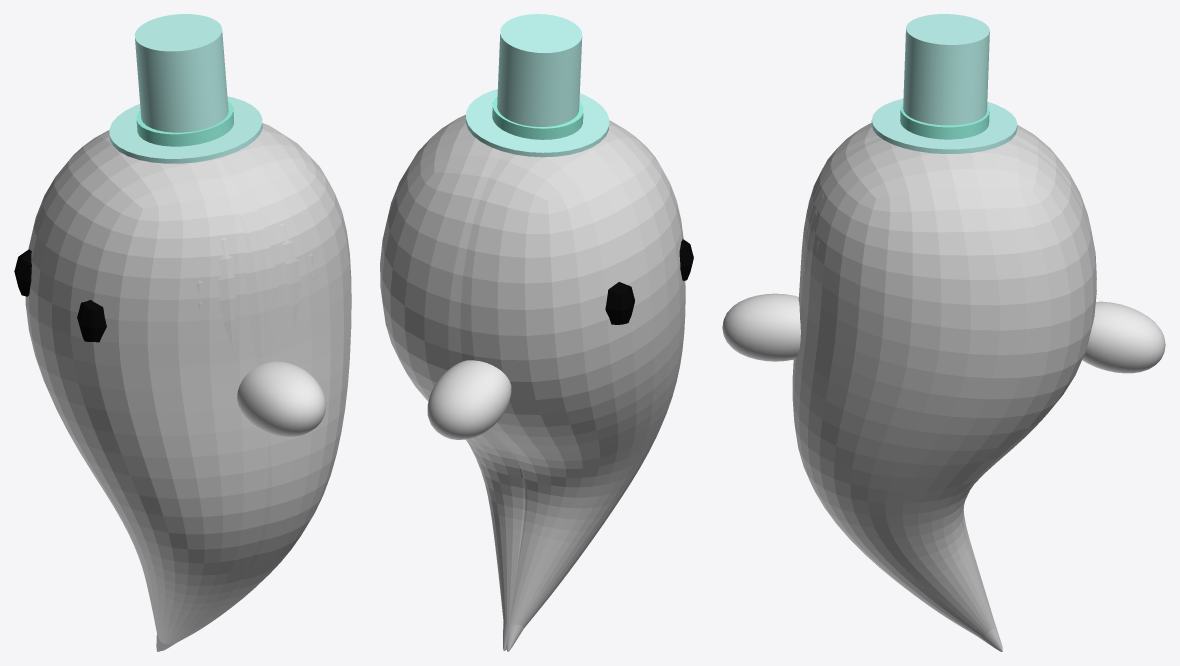
File: ghost_tophat.fbx
The picture shows the model from 3 angles, left to right: view 1: azimuth 30°, elevation 25°; view 2: azimuth 150°, elevation 25°; view 3: azimuth 270°, elevation 25°; orthographic projection. The views are drawn at different scales.
Visible parts, largest first — view 1: body, hat, arm_right, Cylinder.001, Cylinder.002, eye_right, left_eye; view 2: body, hat, left_arm, Cylinder.001, Cylinder.002, left_eye; view 3: body, hat, arm_right, left_arm, Cylinder.001, Cylinder.002.
Part boxes in pixels (bbox=[...]): body: bbox=[25, 123, 351, 651]; hat: bbox=[134, 14, 228, 132]; arm_right: bbox=[237, 361, 325, 437]; Cylinder.001: bbox=[109, 96, 262, 163]; Cylinder.002: bbox=[136, 101, 233, 146]; eye_right: bbox=[77, 300, 106, 342]; left_eye: bbox=[14, 249, 31, 296]; body: bbox=[380, 114, 685, 651]; hat: bbox=[497, 14, 582, 126]; left_arm: bbox=[427, 360, 511, 439]; Cylinder.001: bbox=[465, 89, 609, 157]; Cylinder.002: bbox=[492, 96, 583, 139]; left_eye: bbox=[605, 282, 634, 324]; body: bbox=[792, 123, 1096, 651]; hat: bbox=[903, 14, 989, 125]; arm_right: bbox=[722, 293, 800, 361]; left_arm: bbox=[1082, 301, 1165, 373]; Cylinder.001: bbox=[871, 98, 1017, 153]; Cylinder.002: bbox=[900, 103, 989, 139].
Bounding box in the file's own units: 51.66 × 113 × 73.46.
